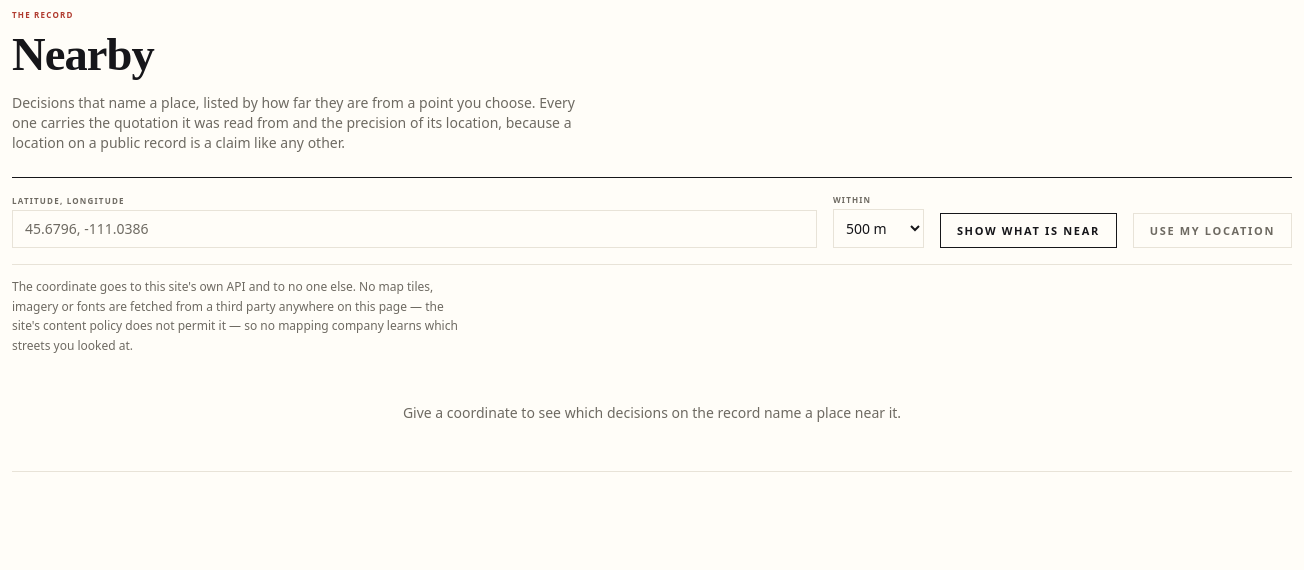
Test case: MapPage › coarsens the reader's own position before writing it anywhere
Click the button "Use my location" at (1212, 231), box [1133,213,1292,248]
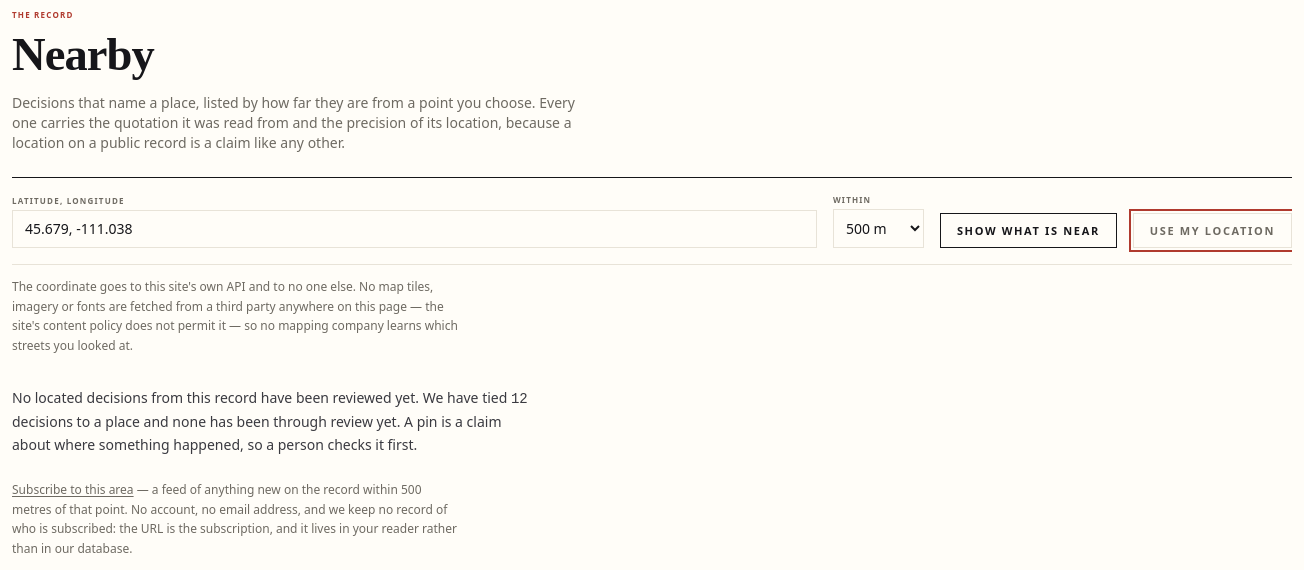
Result: the field showing "45.679, -111.038" is shown at [12,210,817,248]
